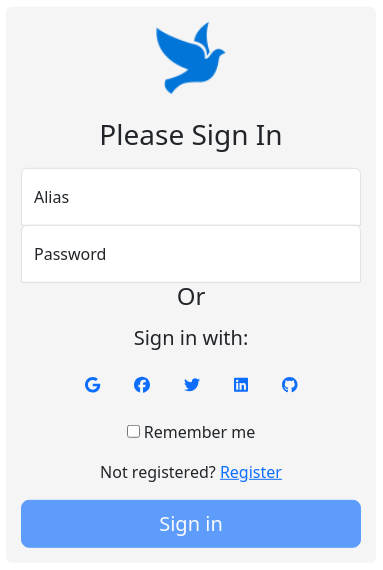
Login View › enables sign in button if both alias and password fields are filled
Type "q" into the field labelled "Alias".
click(191, 196); type("q")  # box [21, 167, 361, 225]
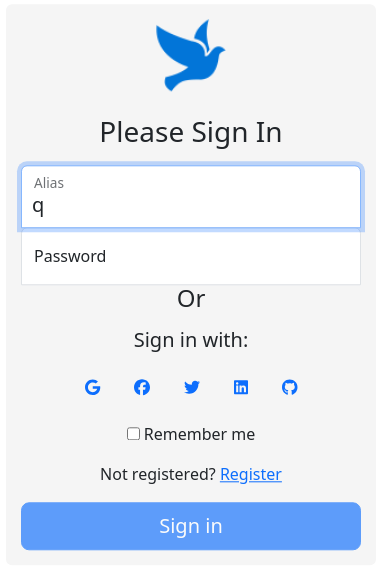
Type "t" into the password field labelled "Password".
click(191, 256); type("t")  # box [21, 227, 361, 285]
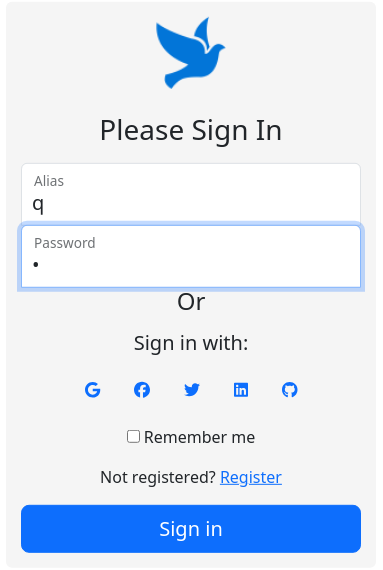
expect the button "Sign in" is enabled: met, box [21, 505, 361, 553]
